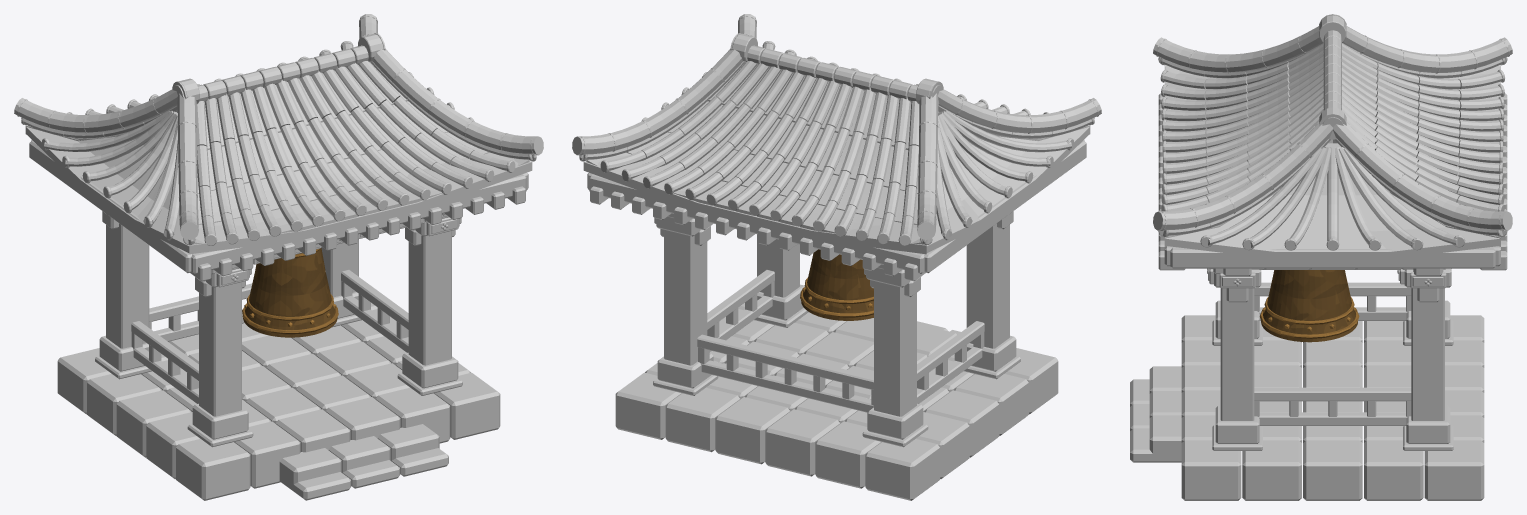
The model's file is Test_Cheon_BellPavilion.fbx.
The picture shows the model from 3 angles, left to right: view 1: azimuth 30°, elevation 25°; view 2: azimuth 150°, elevation 25°; view 3: azimuth 270°, elevation 25°; orthographic projection. The views are drawn at different scales.
Visible parts, largest first — view 1: Pavilion_Pillar_Post.002, Bell_Hollow_Body, Pavilion_Pillar_Post, Pavilion_Pillar_Post.001, PavilionRoof_HipSide_-1, PavilionRoof_EaveFascia, Pavilion_Stone_0_0, PavilionRoof_Front_HipRoll_1, PavilionRoof_Front_UnderRoof, PavilionRoof_Back_HipRoll_-1, Pavilion_Stone_5_0, PavilionRoof_SideFascia (+41 smaller); view 2: Pavilion_Pillar_Post.001, Pavilion_Pillar_Post.003, Pavilion_Pillar_Post, PavilionRoof_HipSide_-1, PavilionRoof_Back_UnderRoof, PavilionRoof_EaveFascia.001, Pavilion_Stone_0_4, PavilionRoof_Back_HipRoll_1, Bell_Hollow_Body, Pavilion_Stone_2_4, Pavilion_Stone_3_4, Pavilion_Stone_4_4 (+37 smaller); view 3: PavilionRoof_HipSide_1, PavilionRoof_SideFascia.001, Bell_Hollow_Body, Pavilion_Pillar_Post.002, Pavilion_Pillar_Post.003, PavilionRoof_Front_HipRoll_1, PavilionRoof_Back_HipRoll_1, Pavilion_Stone_5_2, Pavilion_Stone_5_1, Pavilion_Stone_5_3, Pavilion_Stone_5_0, Pavilion_Stone_5_4 (+73 smaller).
Boxes of the visible parts, x1=… form: Pavilion_Pillar_Post.002: x1=408, y1=231, x2=451, y2=365; Bell_Hollow_Body: x1=243, y1=248, x2=337, y2=337; Pavilion_Pillar_Post: x1=199, y1=282, x2=241, y2=416; Pavilion_Pillar_Post.001: x1=106, y1=223, x2=149, y2=348; PavilionRoof_HipSide_-1: x1=25, y1=126, x2=189, y2=252; PavilionRoof_EaveFascia: x1=191, y1=174, x2=526, y2=273; Pavilion_Stone_0_0: x1=176, y1=439, x2=250, y2=500; PavilionRoof_Front_HipRoll_1: x1=366, y1=49, x2=543, y2=155; PavilionRoof_Front_UnderRoof: x1=189, y1=132, x2=532, y2=254; PavilionRoof_Back_HipRoll_-1: x1=14, y1=89, x2=177, y2=133; Pavilion_Stone_5_0: x1=434, y1=372, x2=500, y2=439; PavilionRoof_SideFascia: x1=29, y1=140, x2=192, y2=273; Pavilion_Pillar_Post.001: x1=874, y1=281, x2=916, y2=416; Pavilion_Pillar_Post.003: x1=664, y1=229, x2=707, y2=365; Pavilion_Pillar_Post: x1=966, y1=223, x2=1009, y2=348; PavilionRoof_HipSide_-1: x1=926, y1=126, x2=1090, y2=252; PavilionRoof_Back_UnderRoof: x1=583, y1=132, x2=926, y2=254; PavilionRoof_EaveFascia.001: x1=589, y1=174, x2=924, y2=273; Pavilion_Stone_0_4: x1=865, y1=439, x2=939, y2=500; PavilionRoof_Back_HipRoll_1: x1=572, y1=49, x2=749, y2=155; Bell_Hollow_Body: x1=801, y1=249, x2=873, y2=320; Pavilion_Stone_2_4: x1=765, y1=409, x2=840, y2=476; Pavilion_Stone_3_4: x1=715, y1=397, x2=790, y2=464; Pavilion_Stone_4_4: x1=665, y1=387, x2=740, y2=452; PavilionRoof_HipSide_1: x1=1164, y1=143, x2=1500, y2=259; PavilionRoof_SideFascia.001: x1=1170, y1=247, x2=1495, y2=268; Bell_Hollow_Body: x1=1261, y1=270, x2=1357, y2=342; Pavilion_Pillar_Post.002: x1=1220, y1=288, x2=1254, y2=420; Pavilion_Pillar_Post.003: x1=1411, y1=288, x2=1444, y2=420; PavilionRoof_Front_HipRoll_1: x1=1153, y1=122, x2=1332, y2=230; PavilionRoof_Back_HipRoll_1: x1=1333, y1=122, x2=1512, y2=230; Pavilion_Stone_5_2: x1=1303, y1=440, x2=1362, y2=500; Pavilion_Stone_5_1: x1=1242, y1=440, x2=1301, y2=500; Pavilion_Stone_5_3: x1=1364, y1=440, x2=1423, y2=500; Pavilion_Stone_5_0: x1=1181, y1=440, x2=1241, y2=500; Pavilion_Stone_5_4: x1=1424, y1=440, x2=1484, y2=500.
Bounding box in the file's own units: 4.61 × 4.29 × 4.1.
